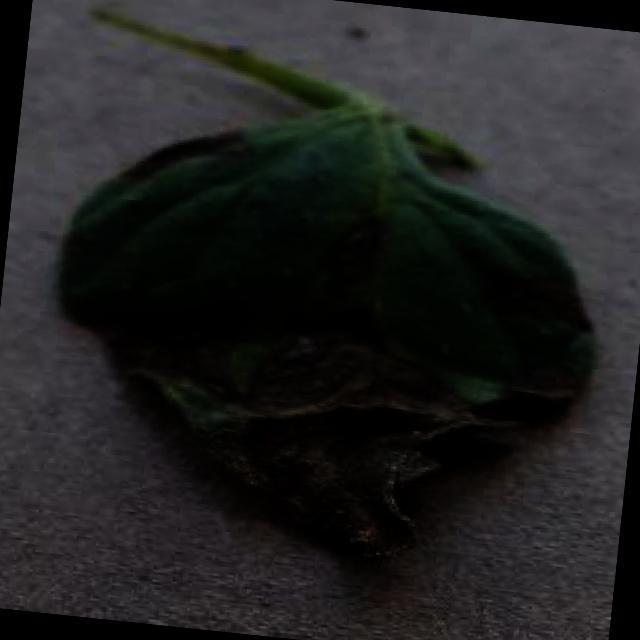Tomato Early blight leaf: (36, 77, 616, 576)
